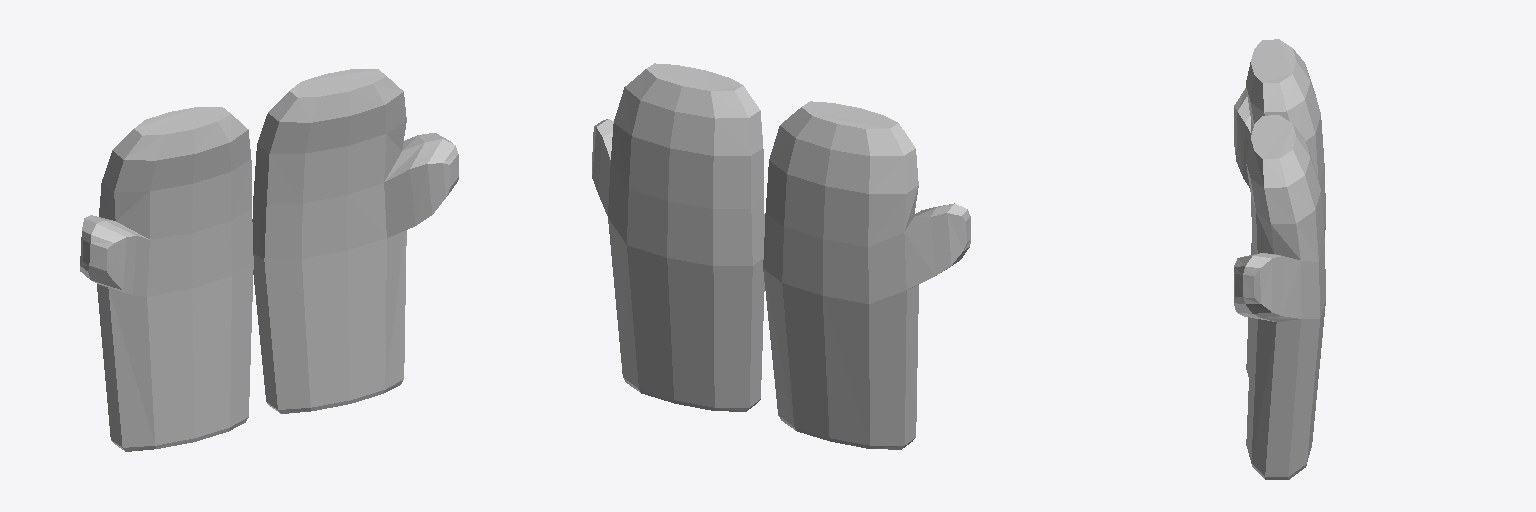
The model's file is insulator_Cylinder_183.obj.
3 renders of one model, left to right at view 1: azimuth 30°, elevation 25°; view 2: azimuth 150°, elevation 25°; view 3: azimuth 270°, elevation 25°, orthographic.
Visible parts, largest first — view 1: insulator_Cylinder.183_Cylinder.010; view 2: insulator_Cylinder.183_Cylinder.010; view 3: insulator_Cylinder.183_Cylinder.010.
Boxes of the visible parts, x1,y1,x2,y2 form: insulator_Cylinder.183_Cylinder.010: [80, 69, 458, 451]; insulator_Cylinder.183_Cylinder.010: [592, 63, 970, 449]; insulator_Cylinder.183_Cylinder.010: [1234, 39, 1325, 479].
Bounding box in the file's own units: 5.71 × 4.61 × 1.23.